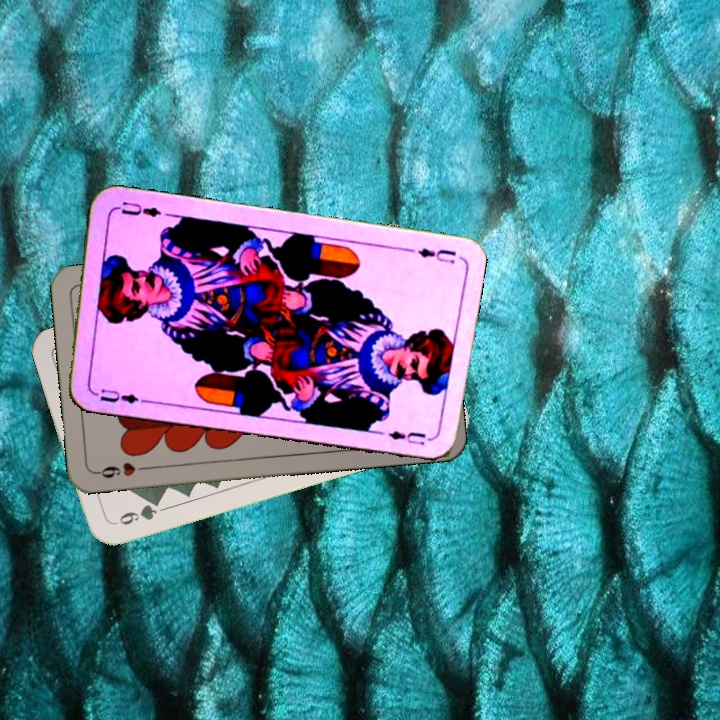EU: (96, 385, 146, 407), (413, 244, 459, 266)
G9: (109, 496, 164, 528)
H9: (92, 458, 151, 481)
